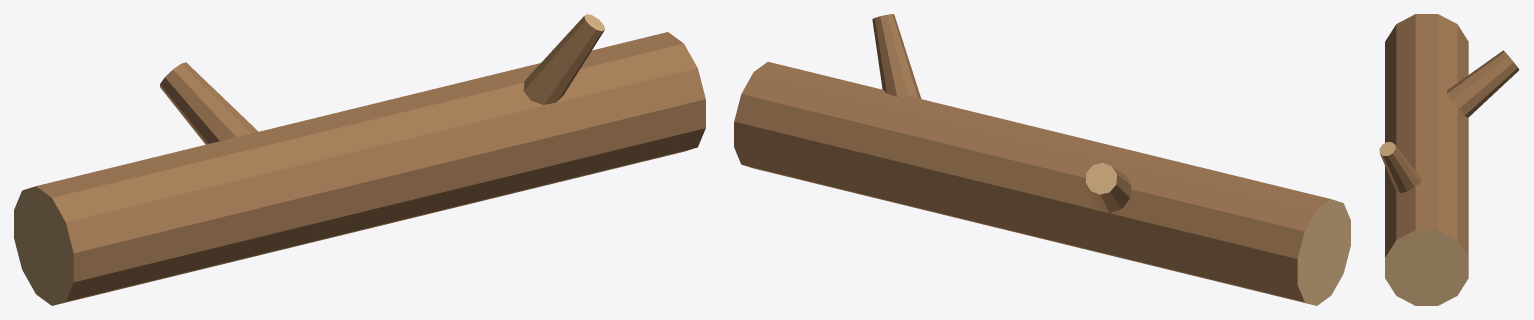
The picture shows the model from 3 angles, left to right: view 1: azimuth 30°, elevation 25°; view 2: azimuth 150°, elevation 25°; view 3: azimuth 270°, elevation 25°; orthographic projection. The views are drawn at different scales.
Visible parts, largest first — view 1: nature-fallen-log-01; view 2: nature-fallen-log-01; view 3: nature-fallen-log-01.
Part boxes in pixels (x1=…): nature-fallen-log-01: x1=14, y1=14, x2=705, y2=305; nature-fallen-log-01: x1=734, y1=14, x2=1350, y2=305; nature-fallen-log-01: x1=1379, y1=14, x2=1519, y2=305.
Size of the model in its own units: 2.6 by 0.6952 by 0.7125.
